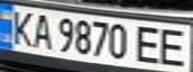0: (106, 20, 133, 61)
7: (90, 19, 112, 57)
8: (72, 17, 93, 56)
9: (51, 15, 75, 53)
A: (27, 11, 57, 50)
E: (154, 25, 193, 68), (130, 24, 166, 64)
K: (3, 7, 39, 47)
